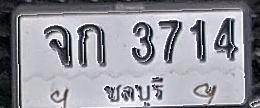1: (190, 19, 206, 62)
3: (132, 21, 154, 64)
4: (214, 18, 237, 60)
7: (158, 20, 182, 63)
A01: (78, 23, 107, 67)
A08: (44, 24, 72, 68)
CBI: (98, 75, 167, 107)
